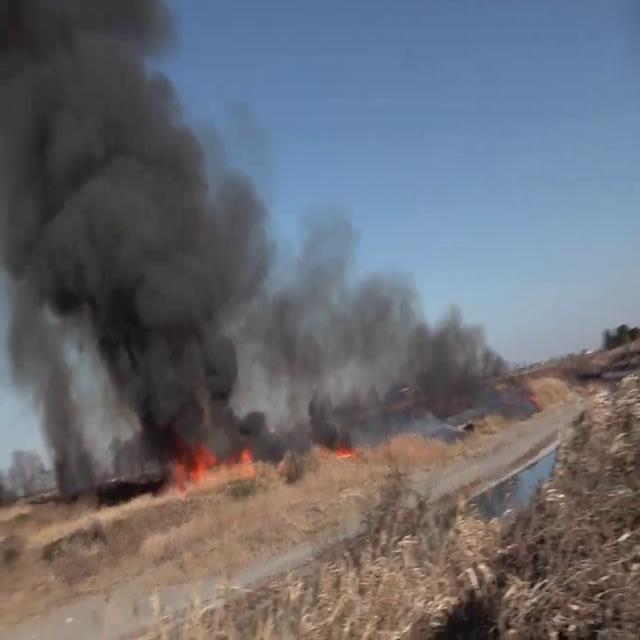Fire: (161, 428, 261, 491)
Smoke: (0, 0, 264, 479), (262, 209, 524, 436)
